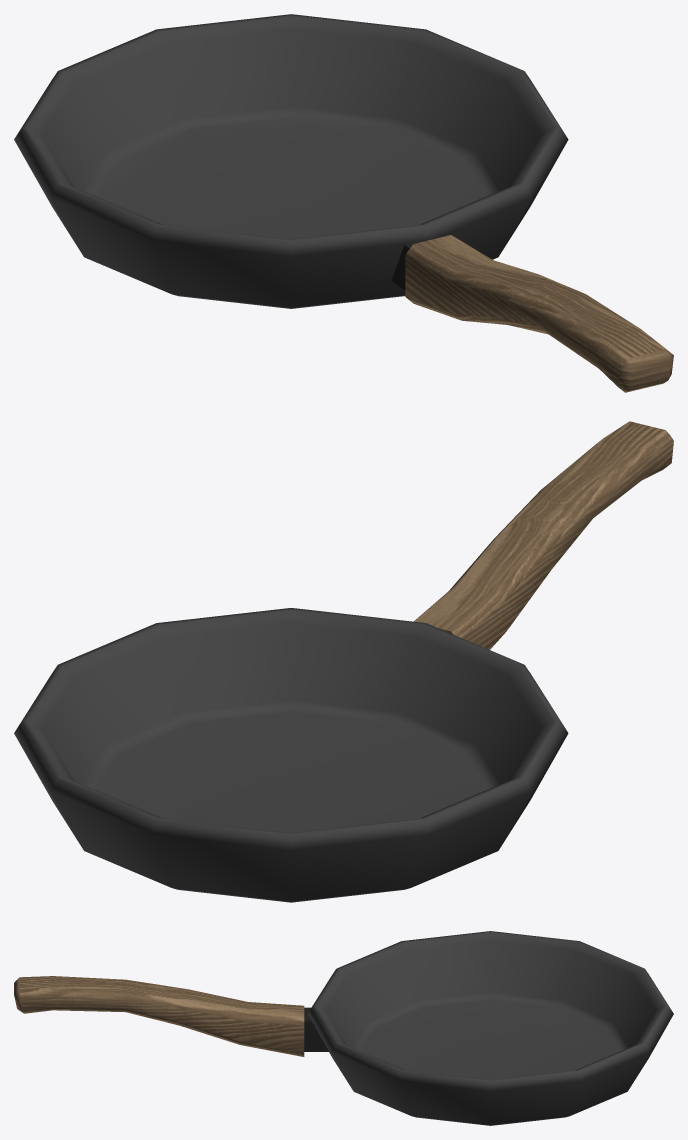
The model's file is prop_004.fbx.
The picture shows the model from 3 angles, top to bottom: view 1: azimuth 30°, elevation 25°; view 2: azimuth 150°, elevation 25°; view 3: azimuth 270°, elevation 25°; orthographic projection. The views are drawn at different scales.
Parts seen in each view (by area): view 1: prop_004; view 2: prop_004; view 3: prop_004.
Part boxes in pixels (bbox=[...]): prop_004: bbox=[14, 14, 673, 392]; prop_004: bbox=[14, 421, 673, 902]; prop_004: bbox=[14, 931, 673, 1125].
Bounding box in the file's own units: 42.32 × 76.2 × 10.28.
